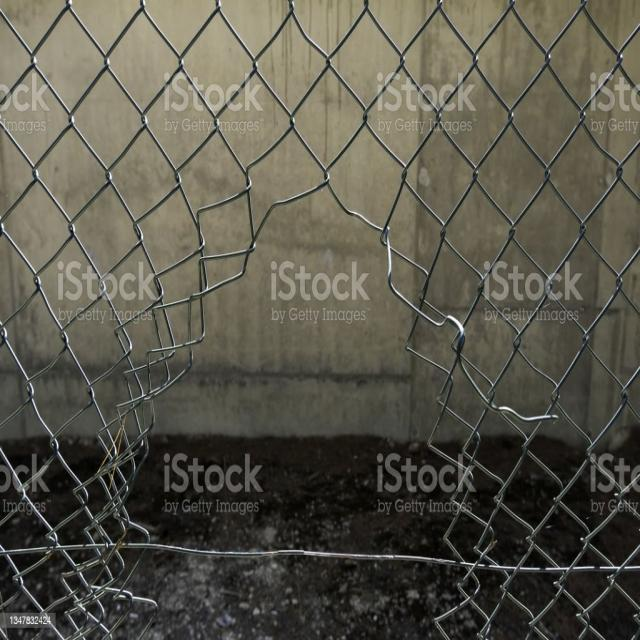fence line: (122, 251, 477, 627)
